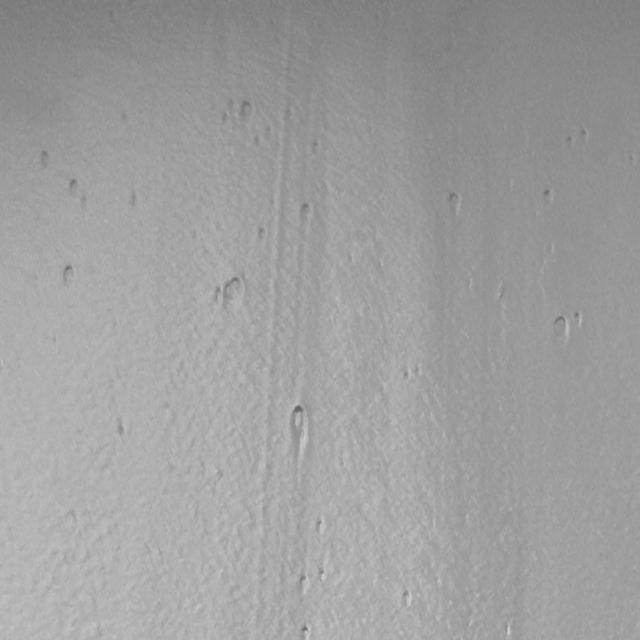pin holes: (285, 406, 310, 450), (222, 272, 248, 310), (551, 312, 572, 346), (444, 189, 465, 219), (60, 262, 80, 289), (296, 201, 315, 228), (238, 100, 258, 124), (36, 148, 56, 171), (114, 417, 132, 442), (66, 179, 84, 203), (295, 572, 311, 596), (397, 589, 415, 610), (212, 284, 226, 309), (540, 188, 556, 209), (127, 190, 141, 211), (626, 151, 639, 172), (579, 126, 592, 146), (256, 226, 270, 244), (313, 517, 327, 535), (565, 132, 578, 151), (574, 308, 586, 328), (298, 622, 312, 638), (309, 138, 321, 156), (316, 569, 328, 586), (403, 368, 411, 387)
